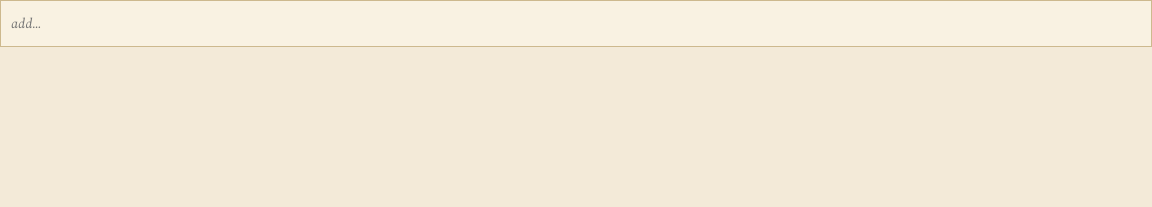
Test: ChipField menu › closes on Escape without committing
This screenshot has width=1152, height=207.
Click the dropdown named "Allies": (576,24) x1=11 y1=8 x2=1141 y2=39
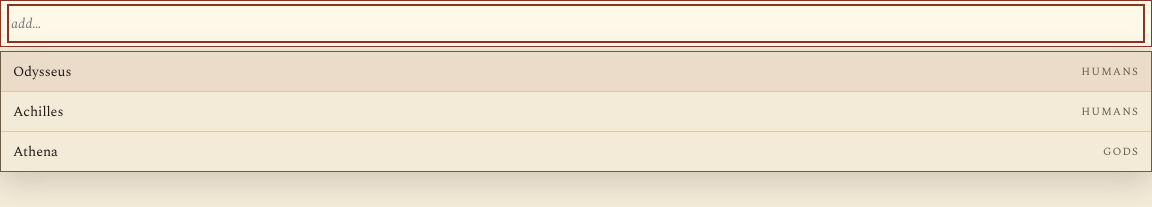
Press Escape
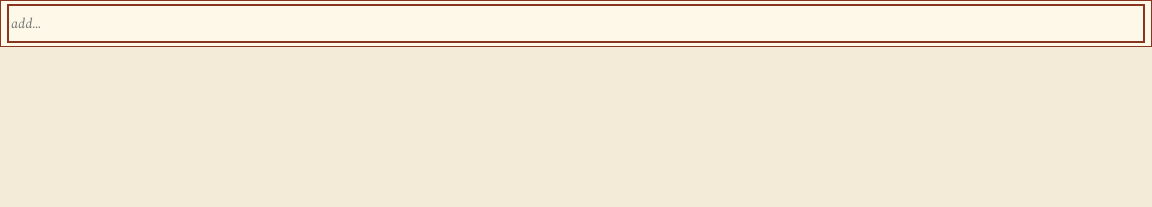
Check: the list is gone
